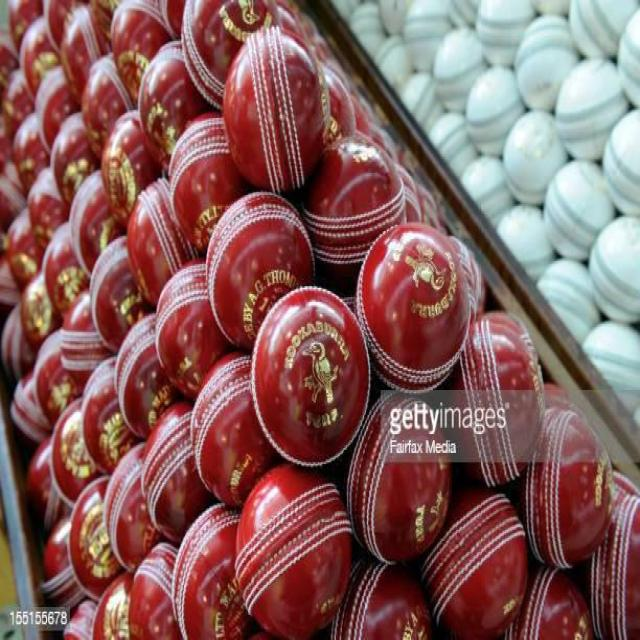ball: (249, 277, 376, 472)
